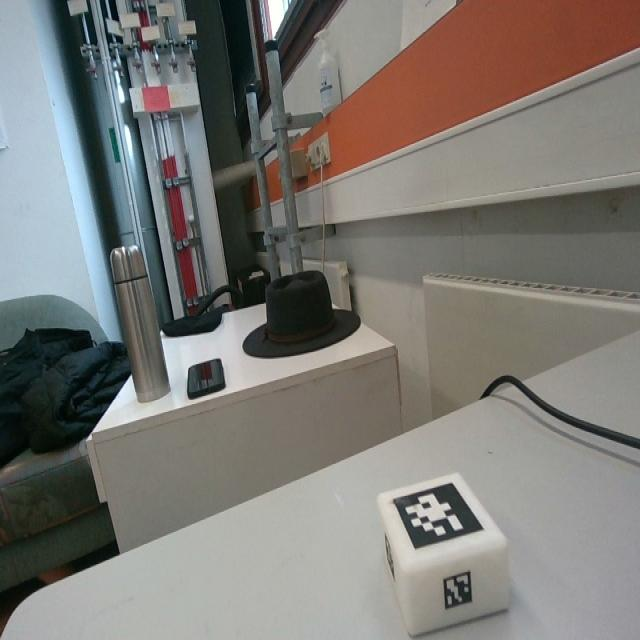Cube: (377, 467, 509, 637)
